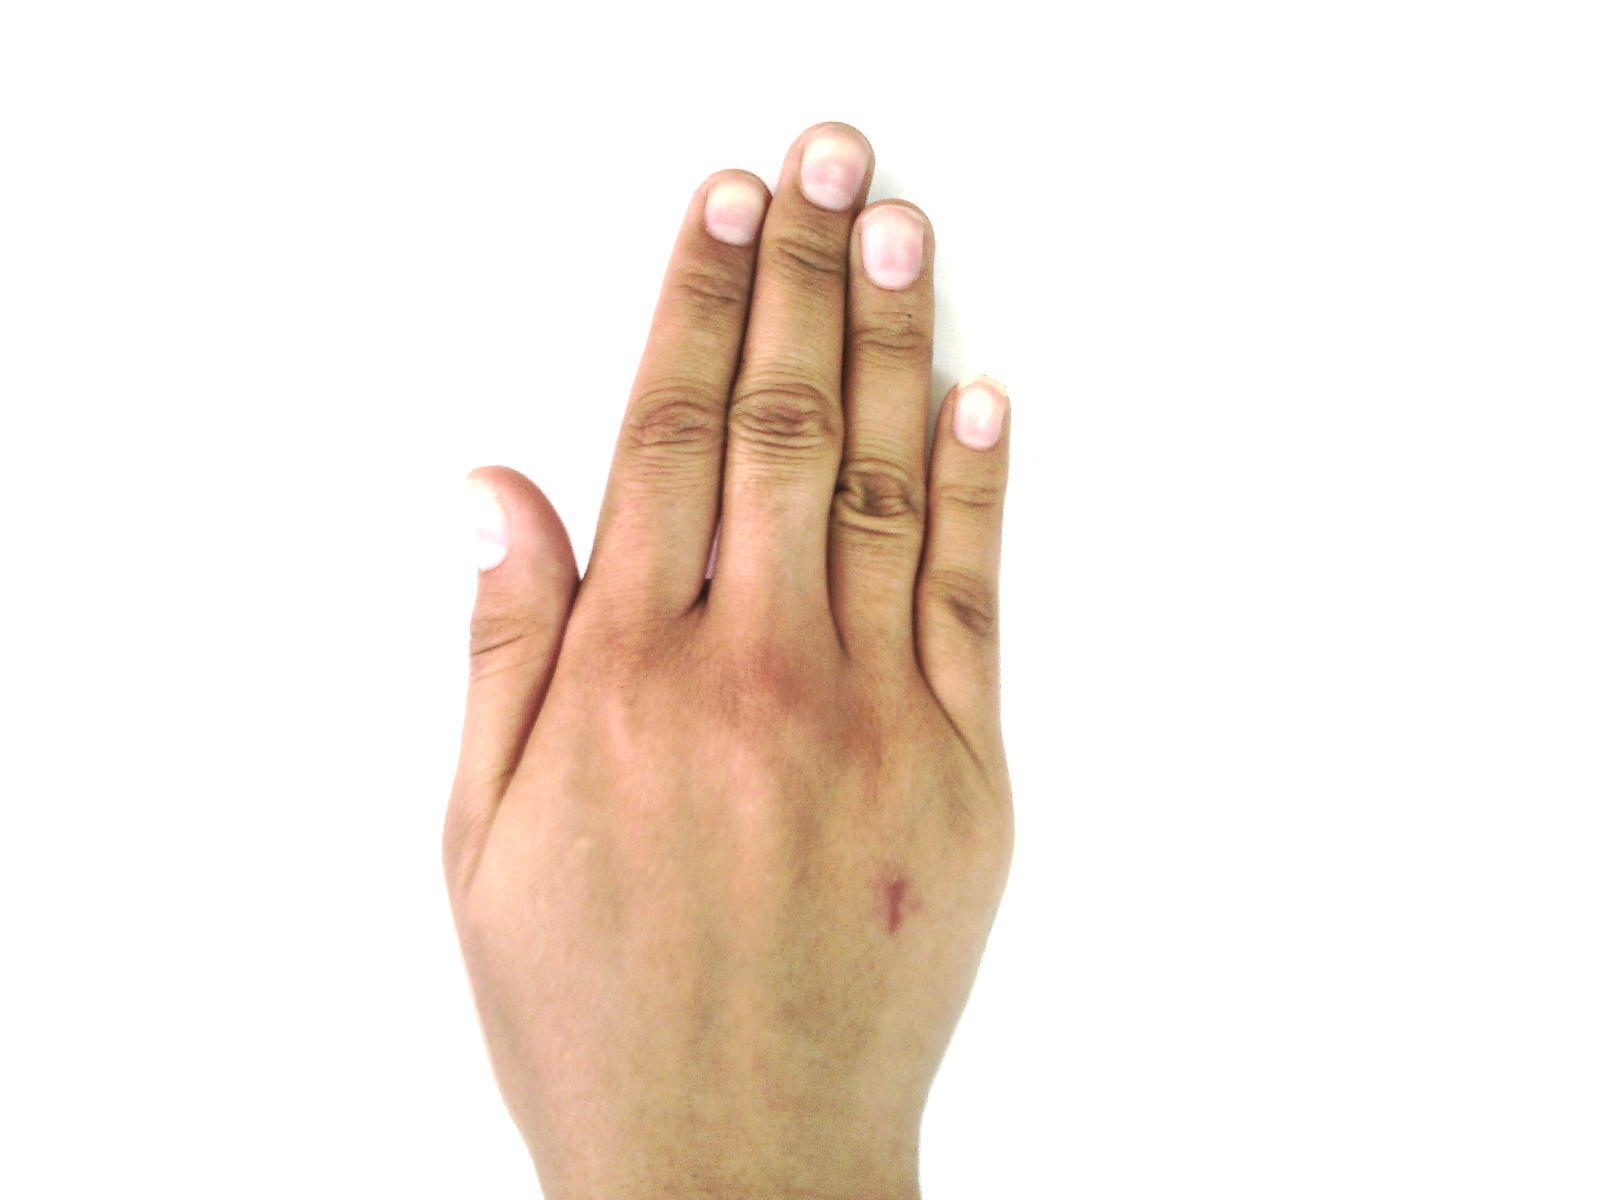hand: (438, 113, 1023, 1158)
